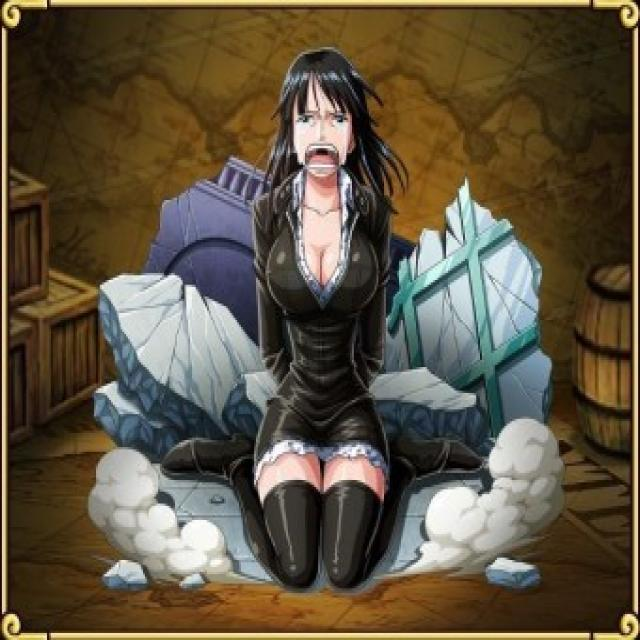NicoRobin: (254, 40, 408, 213)
